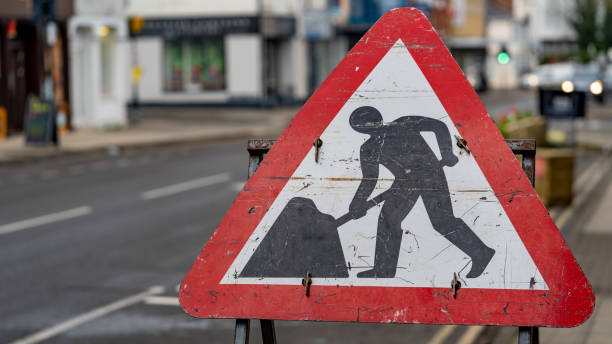yol_calismasi_levha: (179, 5, 527, 329)
